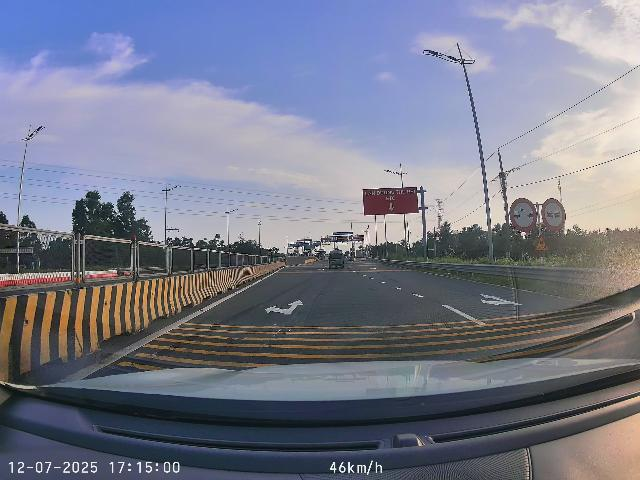125-cam-vuot: (541, 198, 566, 230)
